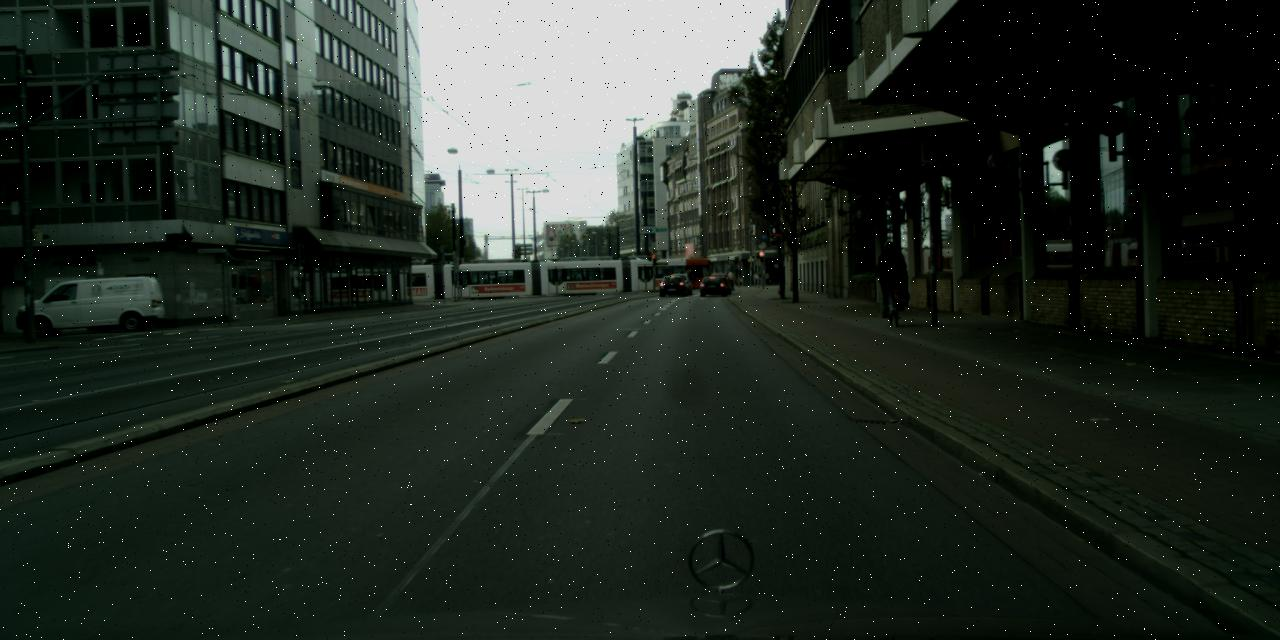ped: (876, 240, 905, 312)
